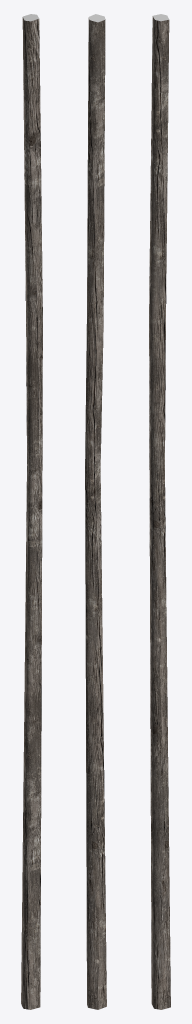
Rendered from Mast_LOD1.fbx.
The picture shows the model from 3 angles, left to right: view 1: azimuth 90°, elevation 25°; view 2: azimuth 210°, elevation 25°; view 3: azimuth 270°, elevation 25°; orthographic projection.
Visible parts, largest first — view 1: polySurface1422; view 2: polySurface1422; view 3: polySurface1422.
Part boxes in pixels (x1,y1,x2,y2): polySurface1422: (21, 14, 42, 1009); polySurface1422: (85, 14, 106, 1009); polySurface1422: (149, 14, 170, 1009).
Bounding box in the file's own units: 0.408 × 20.29 × 0.4077.
